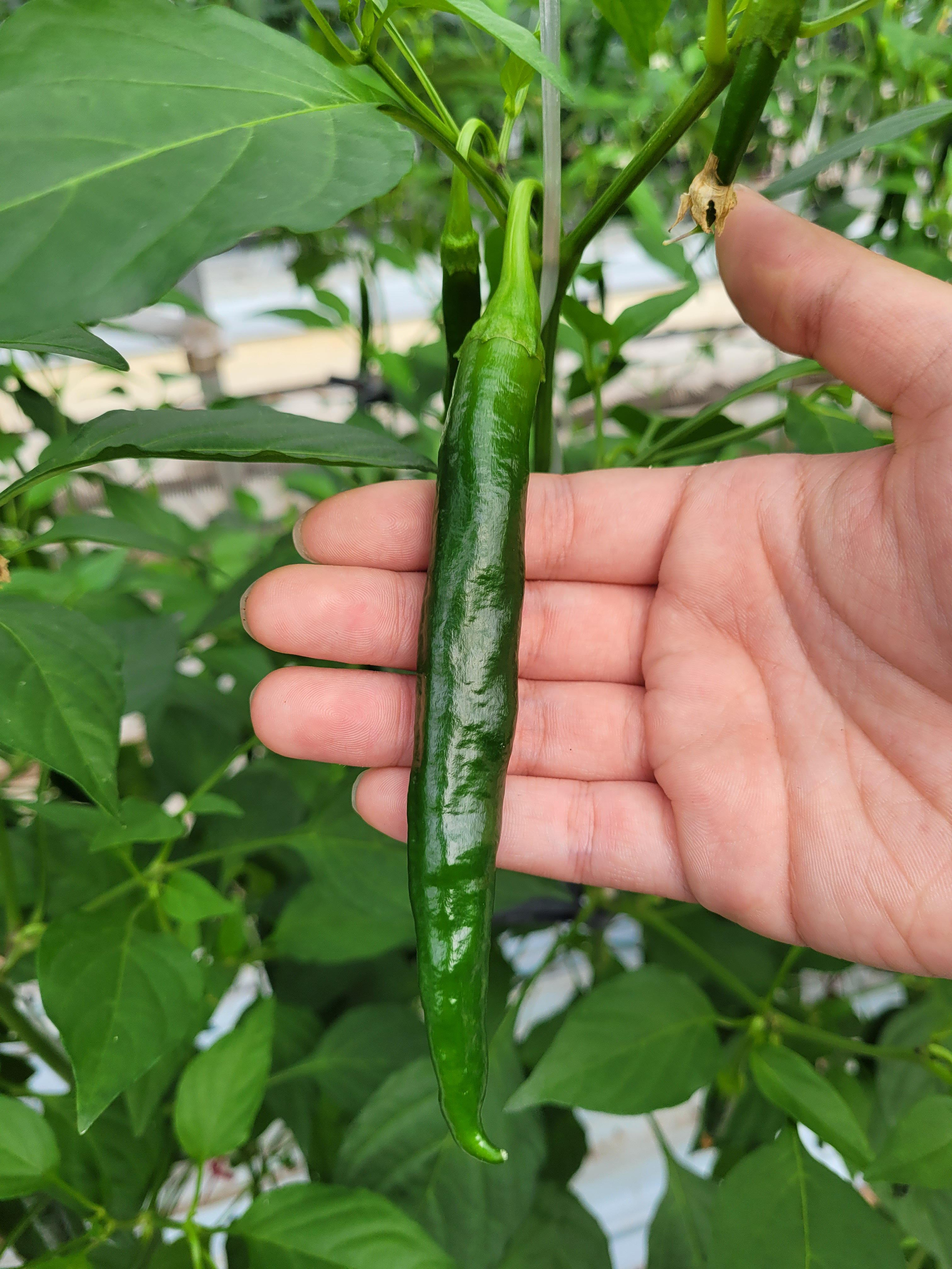Buah Cabai Sehat: (404, 288, 548, 1165)
